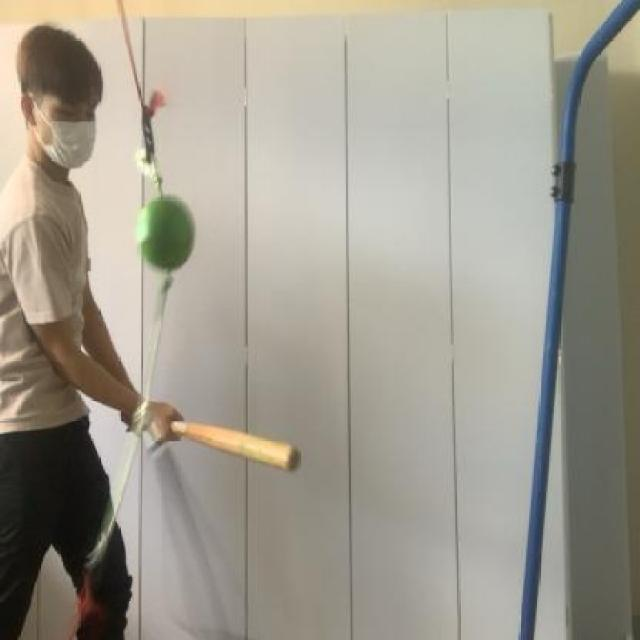baseball: (132, 192, 196, 278)
